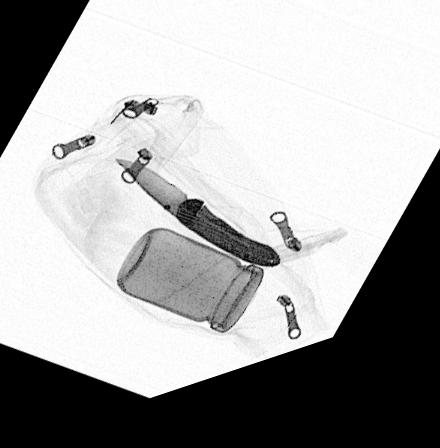Knife: (113, 163, 283, 285)
